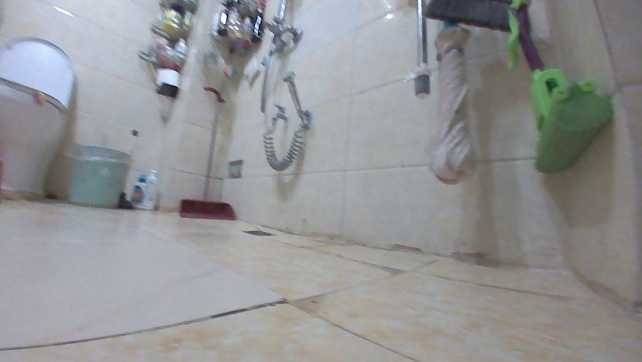toilet: (0, 34, 78, 204)
trash_can: (64, 140, 133, 207)
